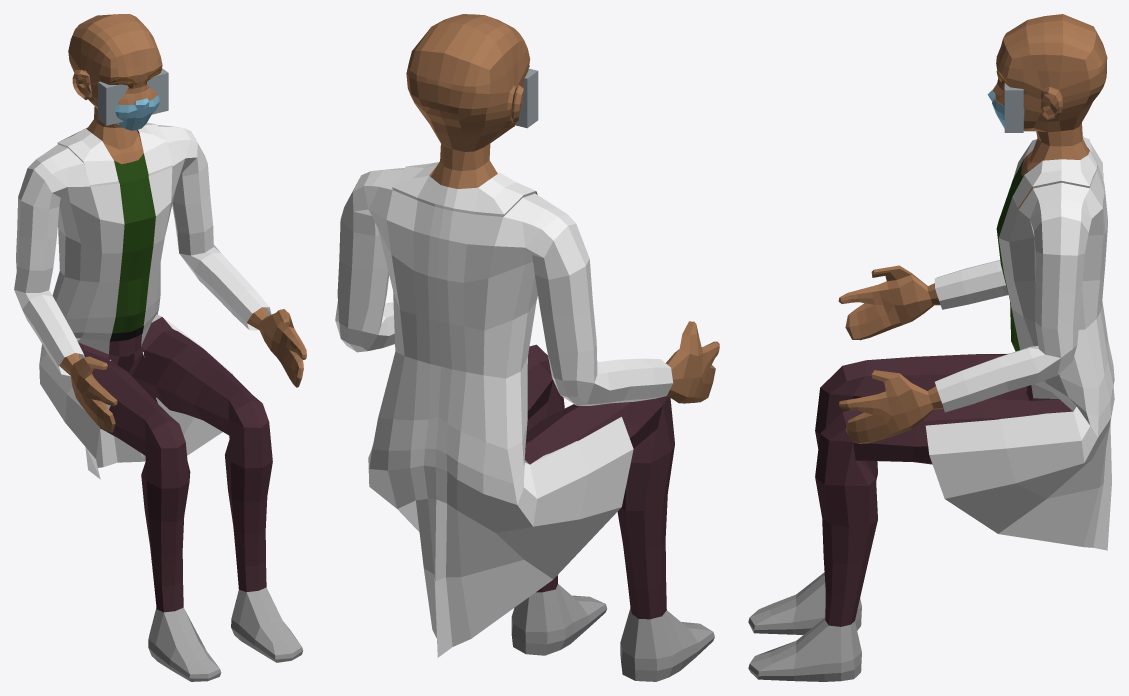
File: ScientistMale_Sit_Mask.fbx
The picture shows the model from 3 angles, left to right: view 1: azimuth 30°, elevation 25°; view 2: azimuth 150°, elevation 25°; view 3: azimuth 270°, elevation 25°; orthographic projection. The views are drawn at different scales.
Visible parts, largest first — view 1: ScientistMale_Sit_Mask; view 2: ScientistMale_Sit_Mask; view 3: ScientistMale_Sit_Mask.
Boxes of the visible parts, x1,y1,x2,y2 form: ScientistMale_Sit_Mask: (14, 14, 306, 681); ScientistMale_Sit_Mask: (335, 14, 719, 681); ScientistMale_Sit_Mask: (748, 14, 1114, 681).
Size of the model in its own units: 0.3245 by 0.8093 by 0.4272.
